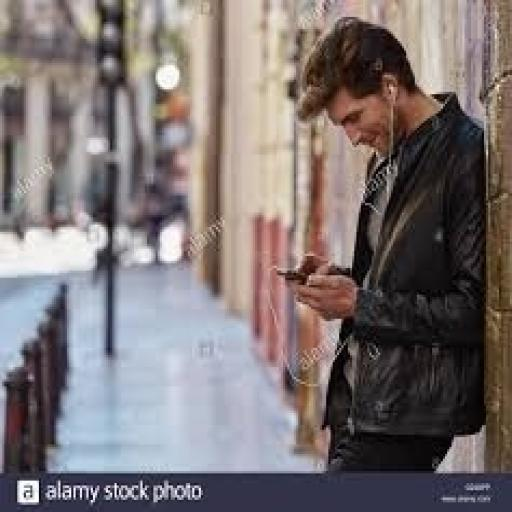listening_to_music: (286, 14, 490, 476)
